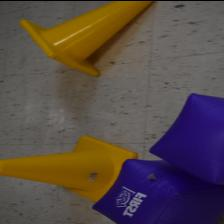cone: (18, 0, 154, 76), (0, 134, 137, 202)
cube: (91, 157, 224, 223), (149, 92, 224, 184)
